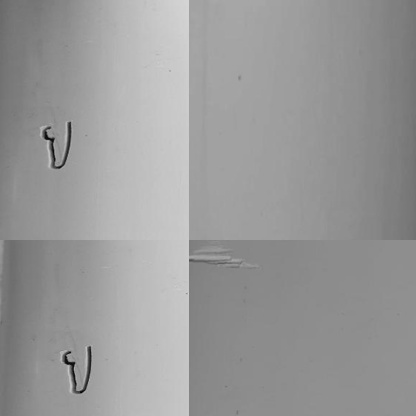fengxi: (34, 120, 79, 174), (58, 344, 99, 400)
sunshang: (189, 242, 257, 273)
